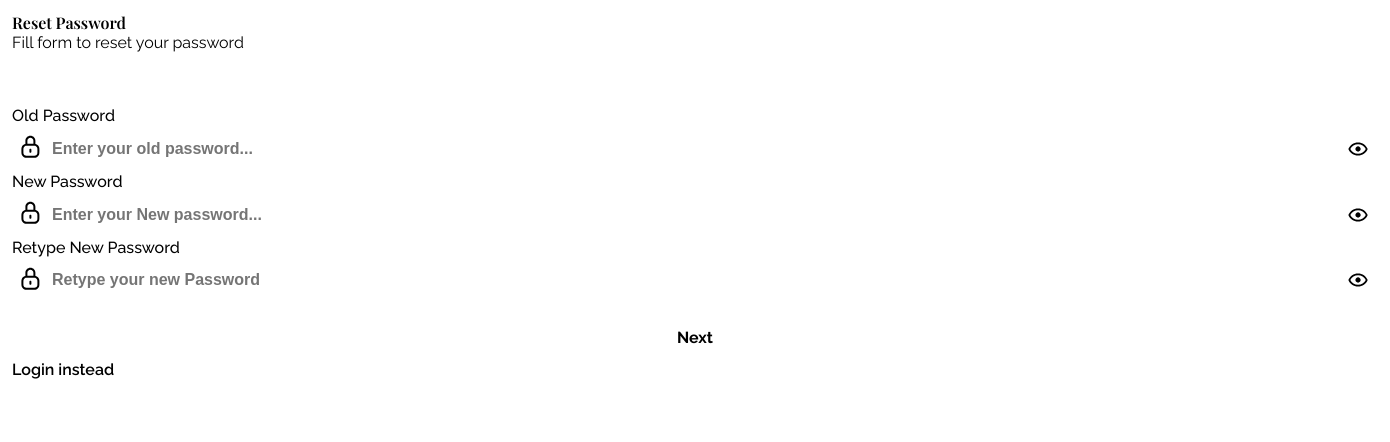
Scenario: Test Component : ResetPasswordForm › if new password and old are same show error
Type "123123" into the password field with test id "resetPasswordFormOldPasswordInput" at (695, 149), box [12,132,1378,166]
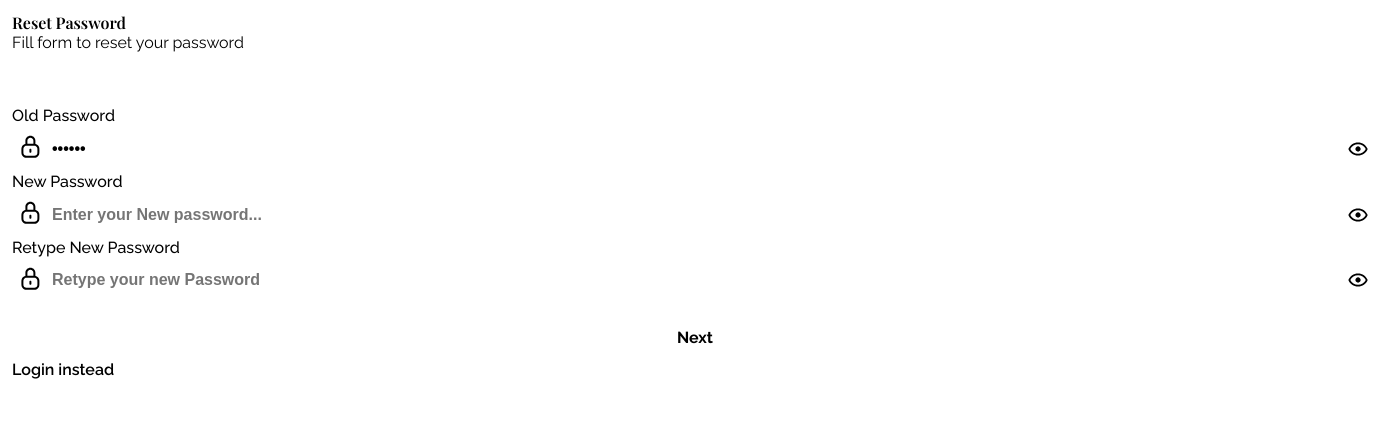
Type "123123" into the password field with test id "resetPasswordFormNewPasswordInput" at (695, 215), box [12,198,1378,232]
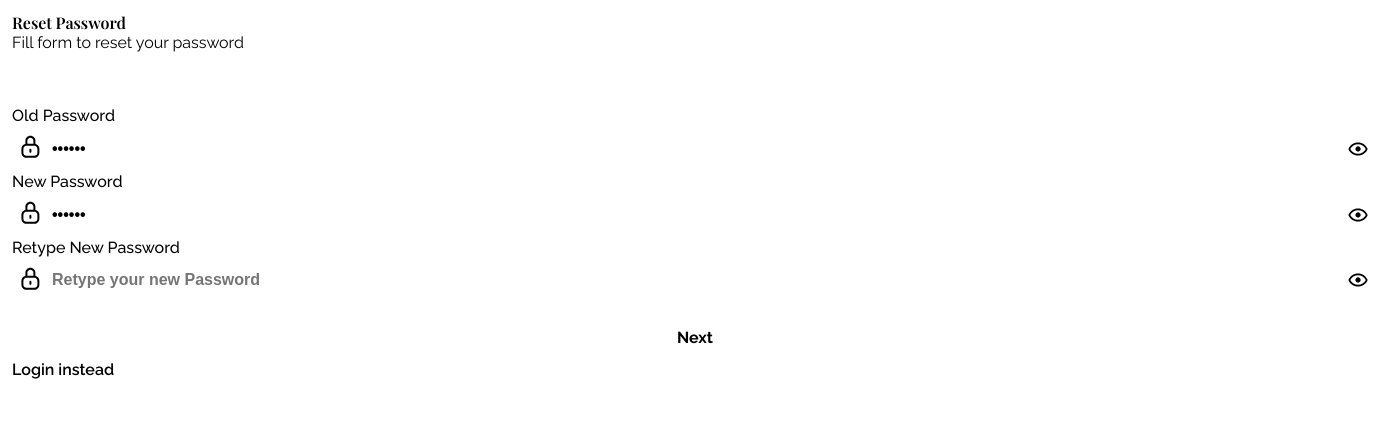
Type "123123" into the password field with test id "resetPasswordFormRetypePasswordInput" at (695, 280), box [12,263,1378,297]
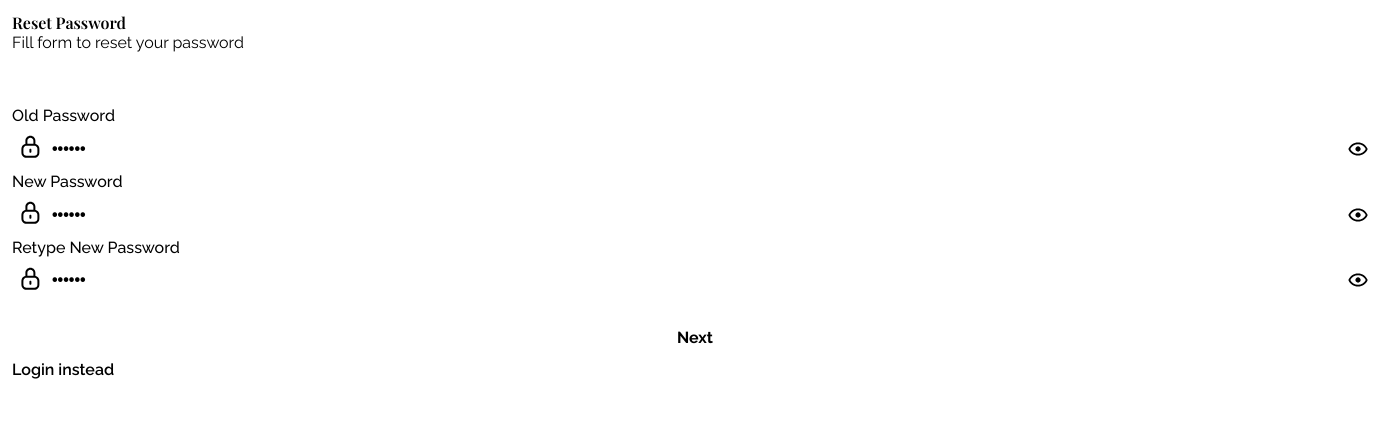
Click the button with test id "resetPasswordFormNextButton" at (695, 337), box [12,321,1378,353]
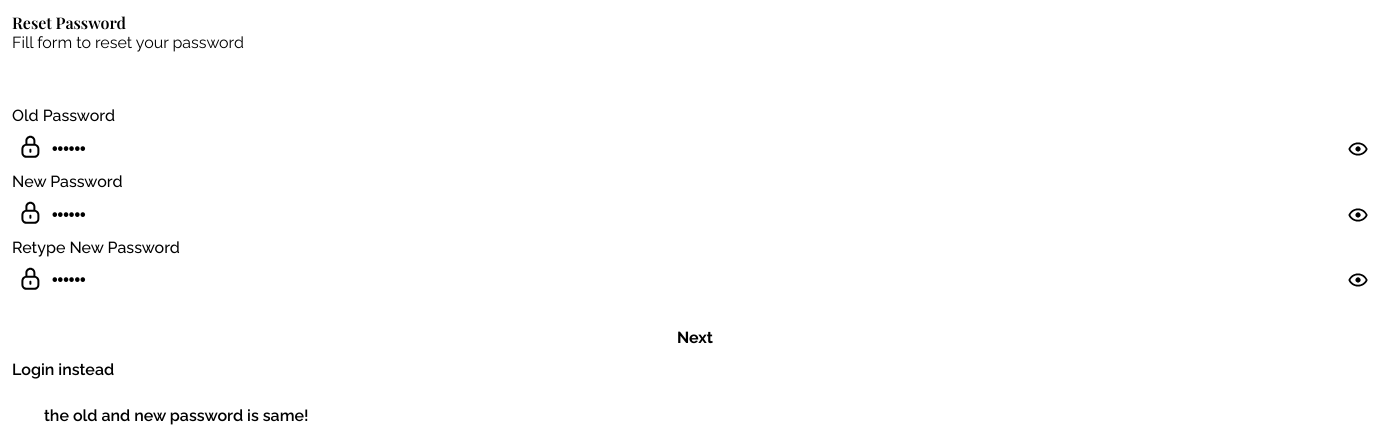
Now the element with test id "errorMessage" reads "the old and new password is same!", box [44,406,308,425]
